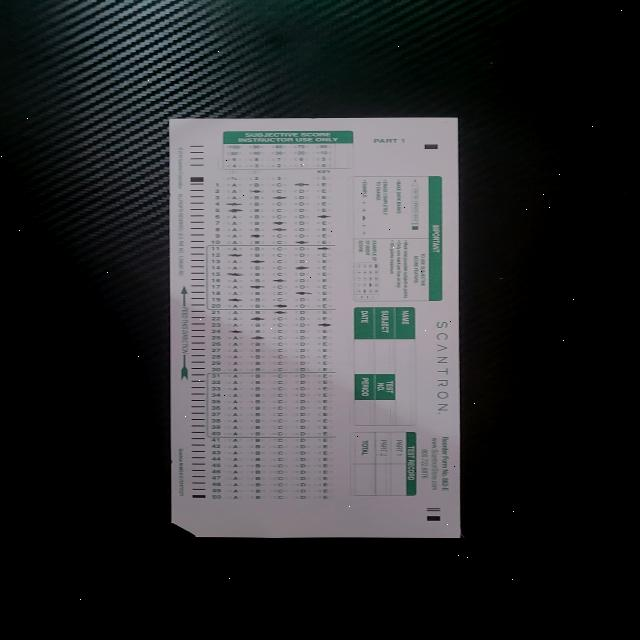scantron: (171, 118, 461, 538)
